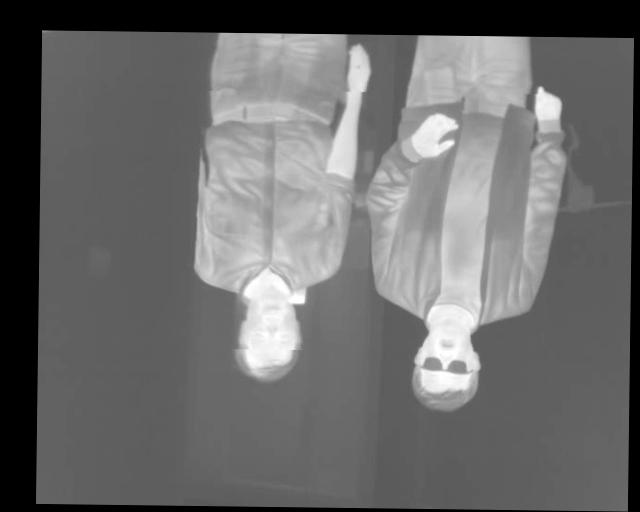face: (411, 317, 483, 414), (235, 287, 304, 383)
